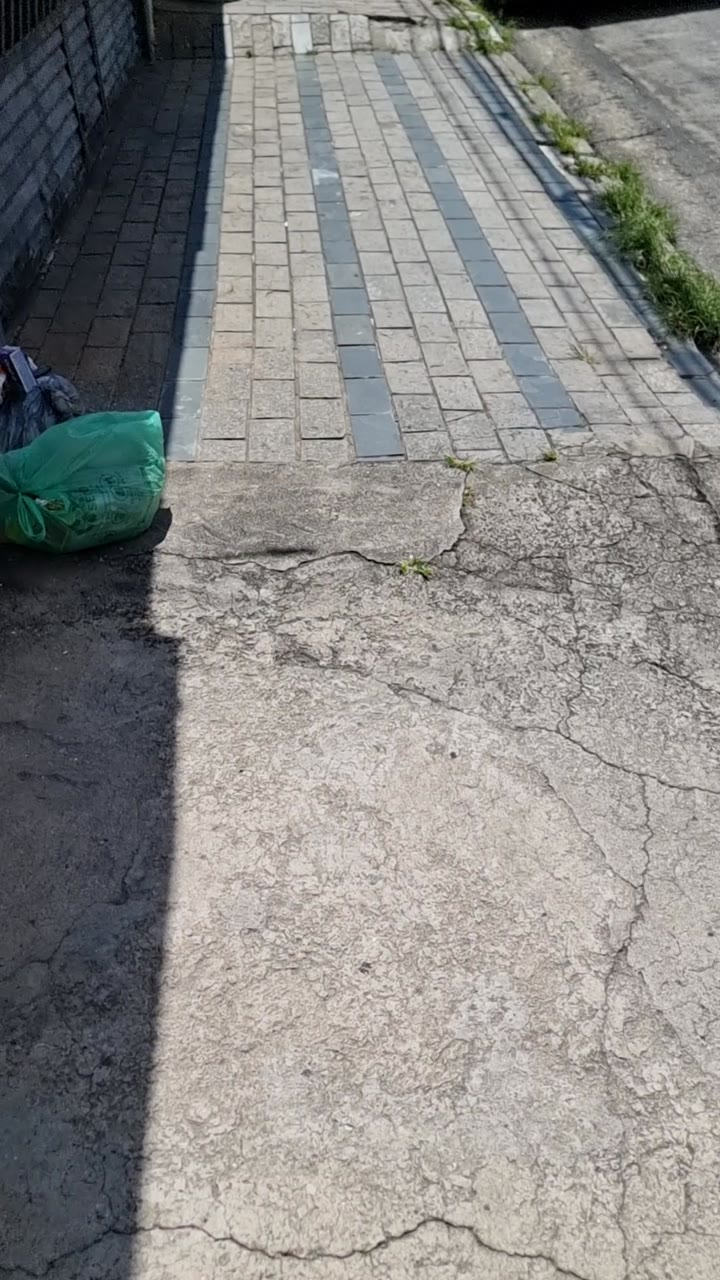desnivel: (0, 474, 720, 563)
obstaculo: (1, 411, 165, 552)
